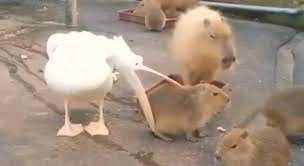capivara: (142, 83, 232, 143), (172, 6, 237, 83), (213, 130, 290, 166)
